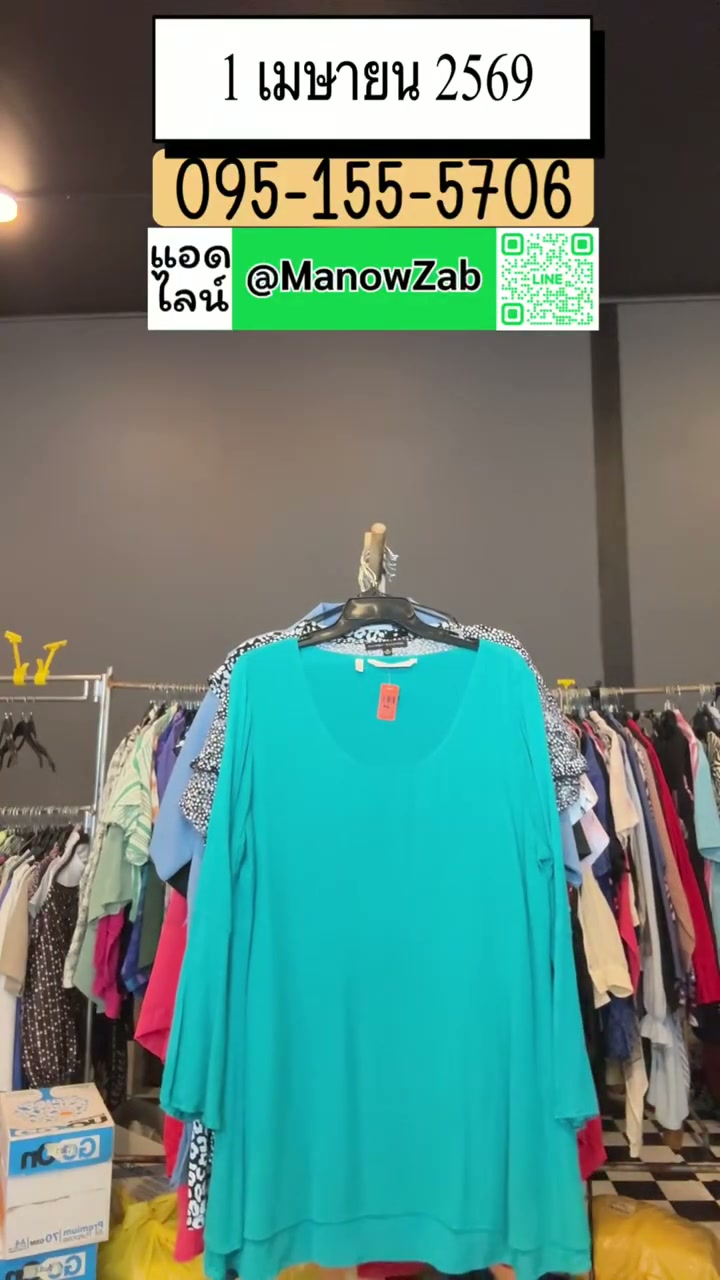display_shirt: (163, 638, 595, 1279)
